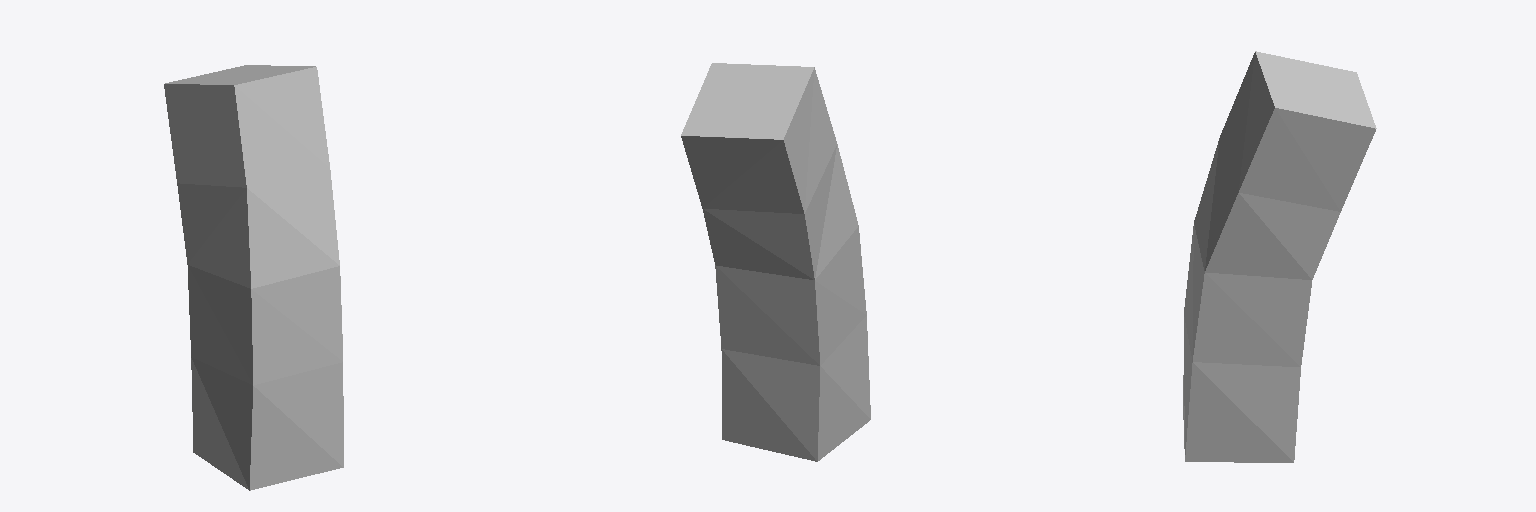
Rendered from wiggle_000035.obj.
3 views of the same model, side by side, from view 1: azimuth 30°, elevation 25°; view 2: azimuth 150°, elevation 25°; view 3: azimuth 270°, elevation 25° (orthographic).
Parts seen in each view (by area): view 1: Cube; view 2: Cube; view 3: Cube.
Boxes of the visible parts, box(x1,y1,x2,y2) form: Cube: box(164, 65, 343, 490); Cube: box(681, 63, 870, 461); Cube: box(1183, 51, 1376, 462).
Size of the model in its own units: 2.47 by 7.58 by 3.53.